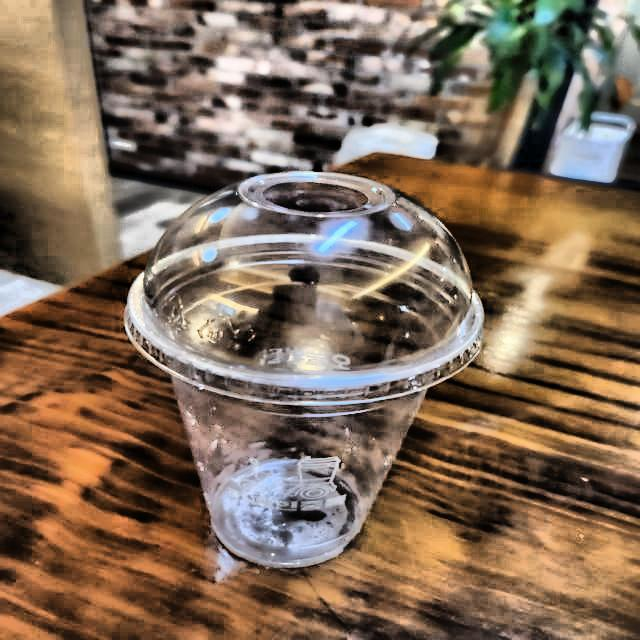plastic cup: (120, 161, 492, 590)
